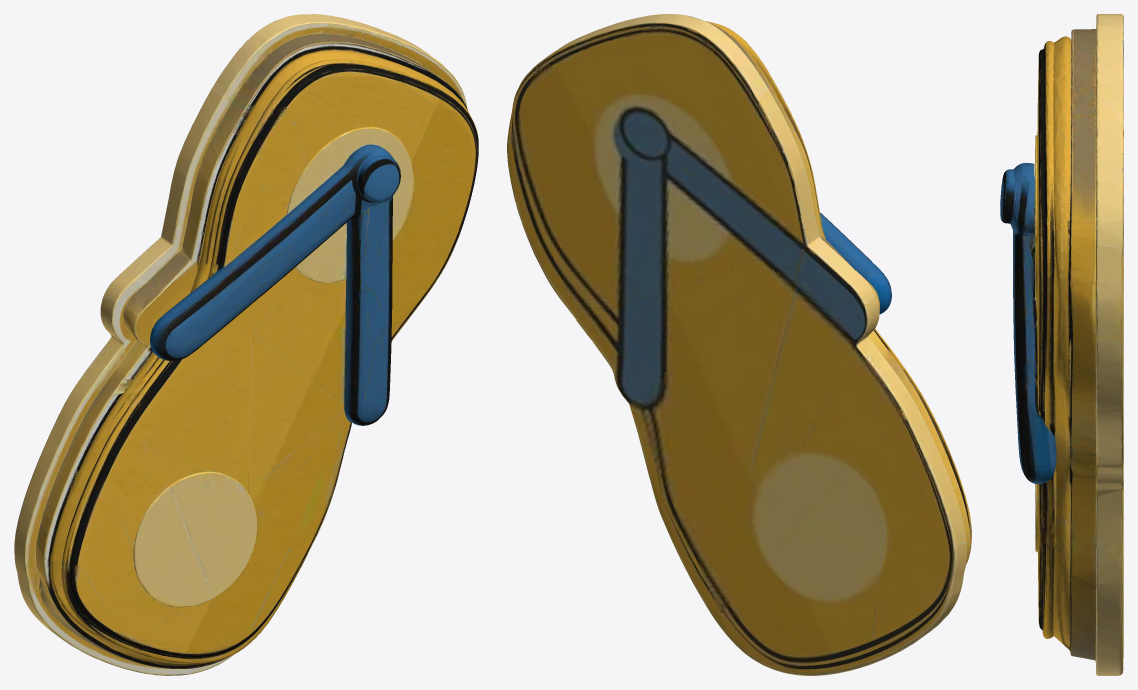
Rendered from zapato.glb.
3 renders of one model, left to right at view 1: azimuth 30°, elevation 25°; view 2: azimuth 150°, elevation 25°; view 3: azimuth 270°, elevation 25°, orthographic. The views are drawn at different scales.
Bounding box in the file's own units: 1.43 × 1.9 × 0.3049.
1 material, 1 textured.
